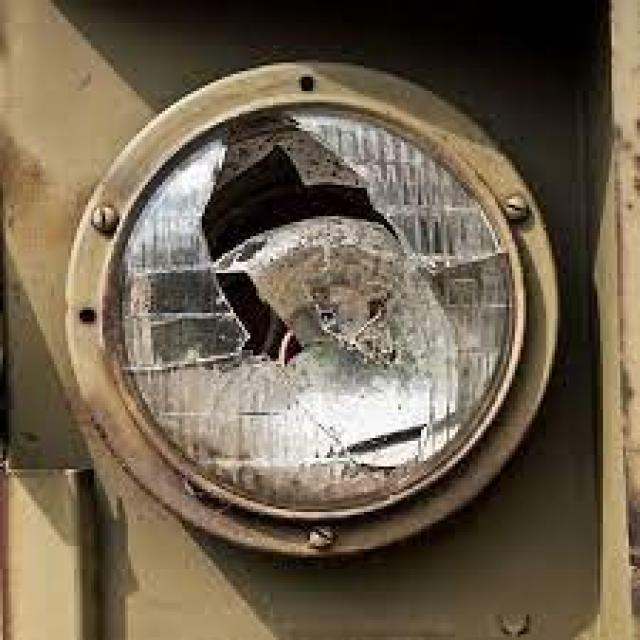damaged-head-light: (108, 97, 526, 525)
